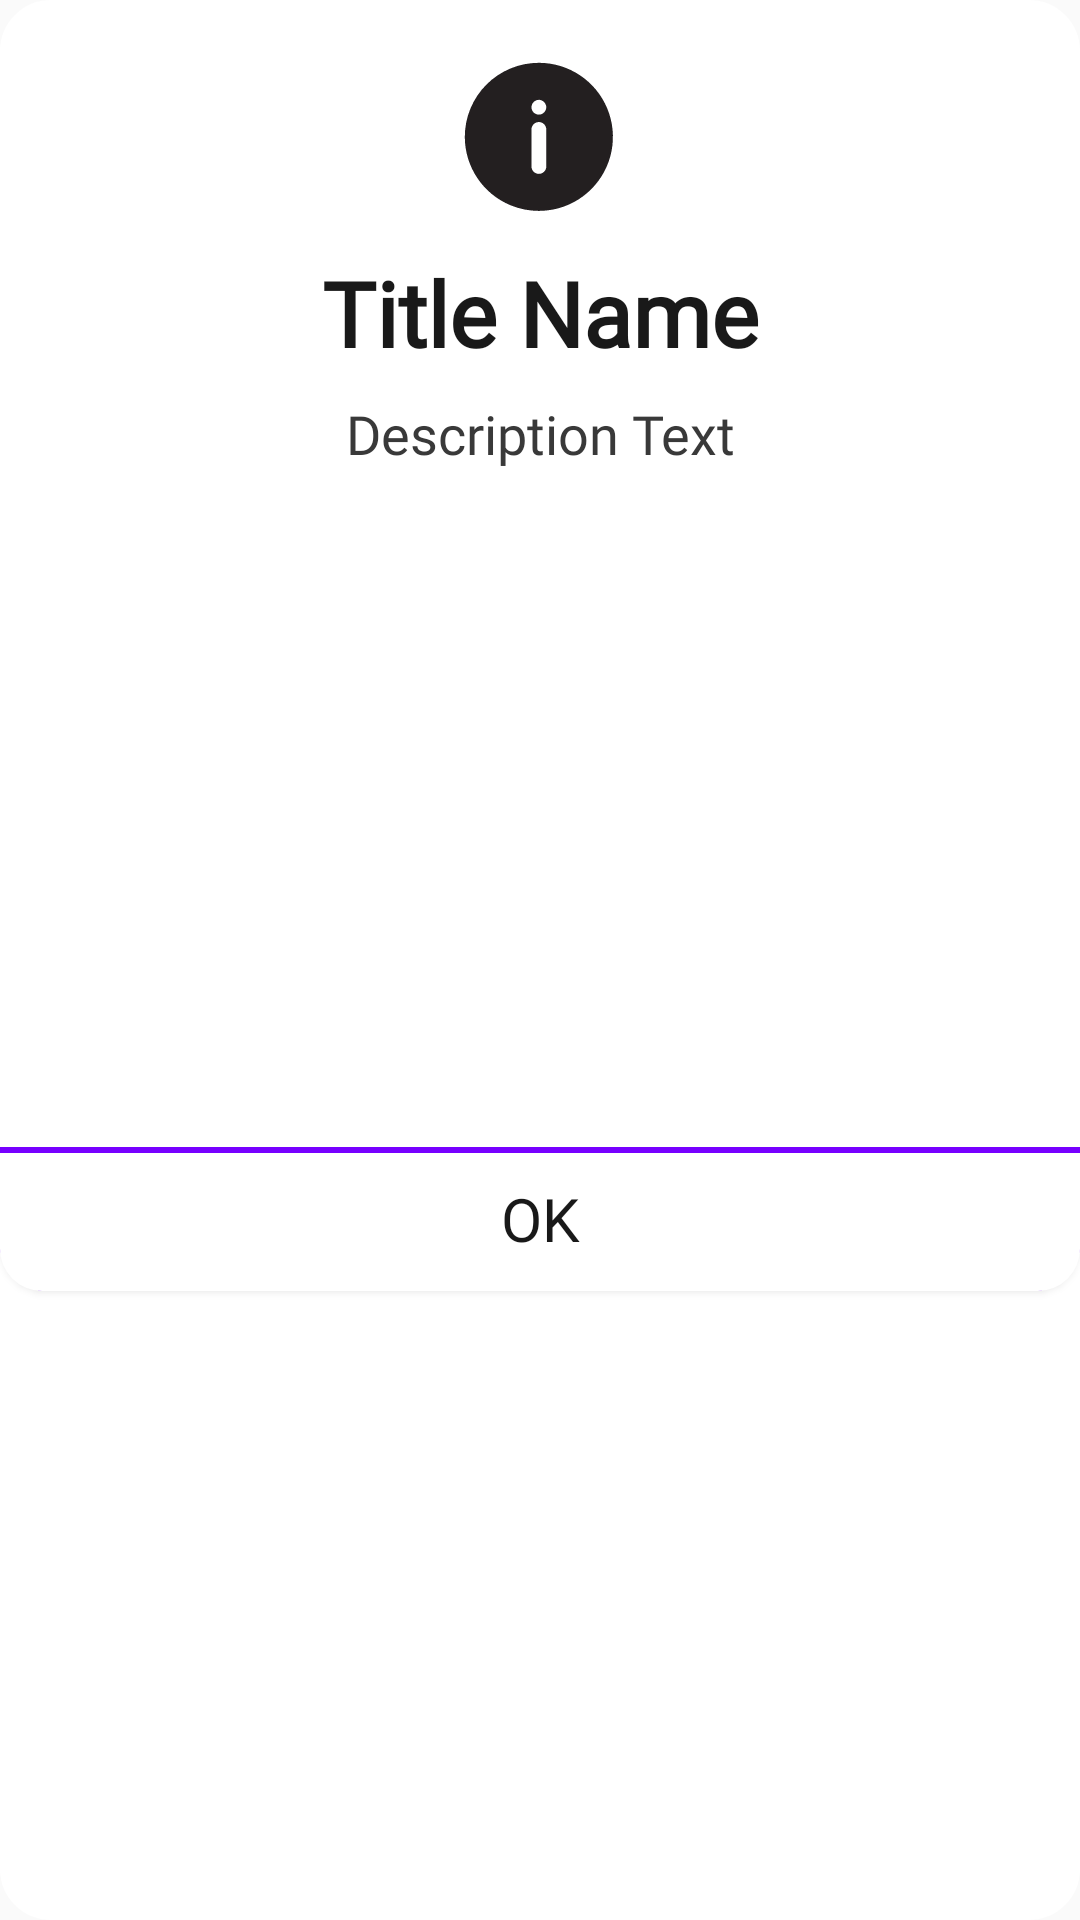

Icon click points for this 1080px x 1920px phone screenshot, format [x,y]:
info: [538,136]
